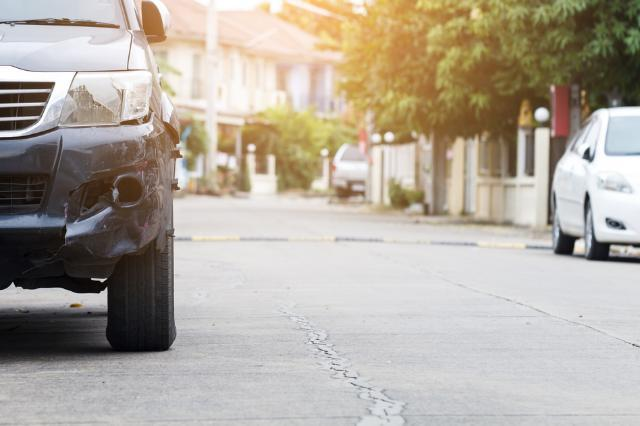Bumper: (64, 123, 177, 259)
